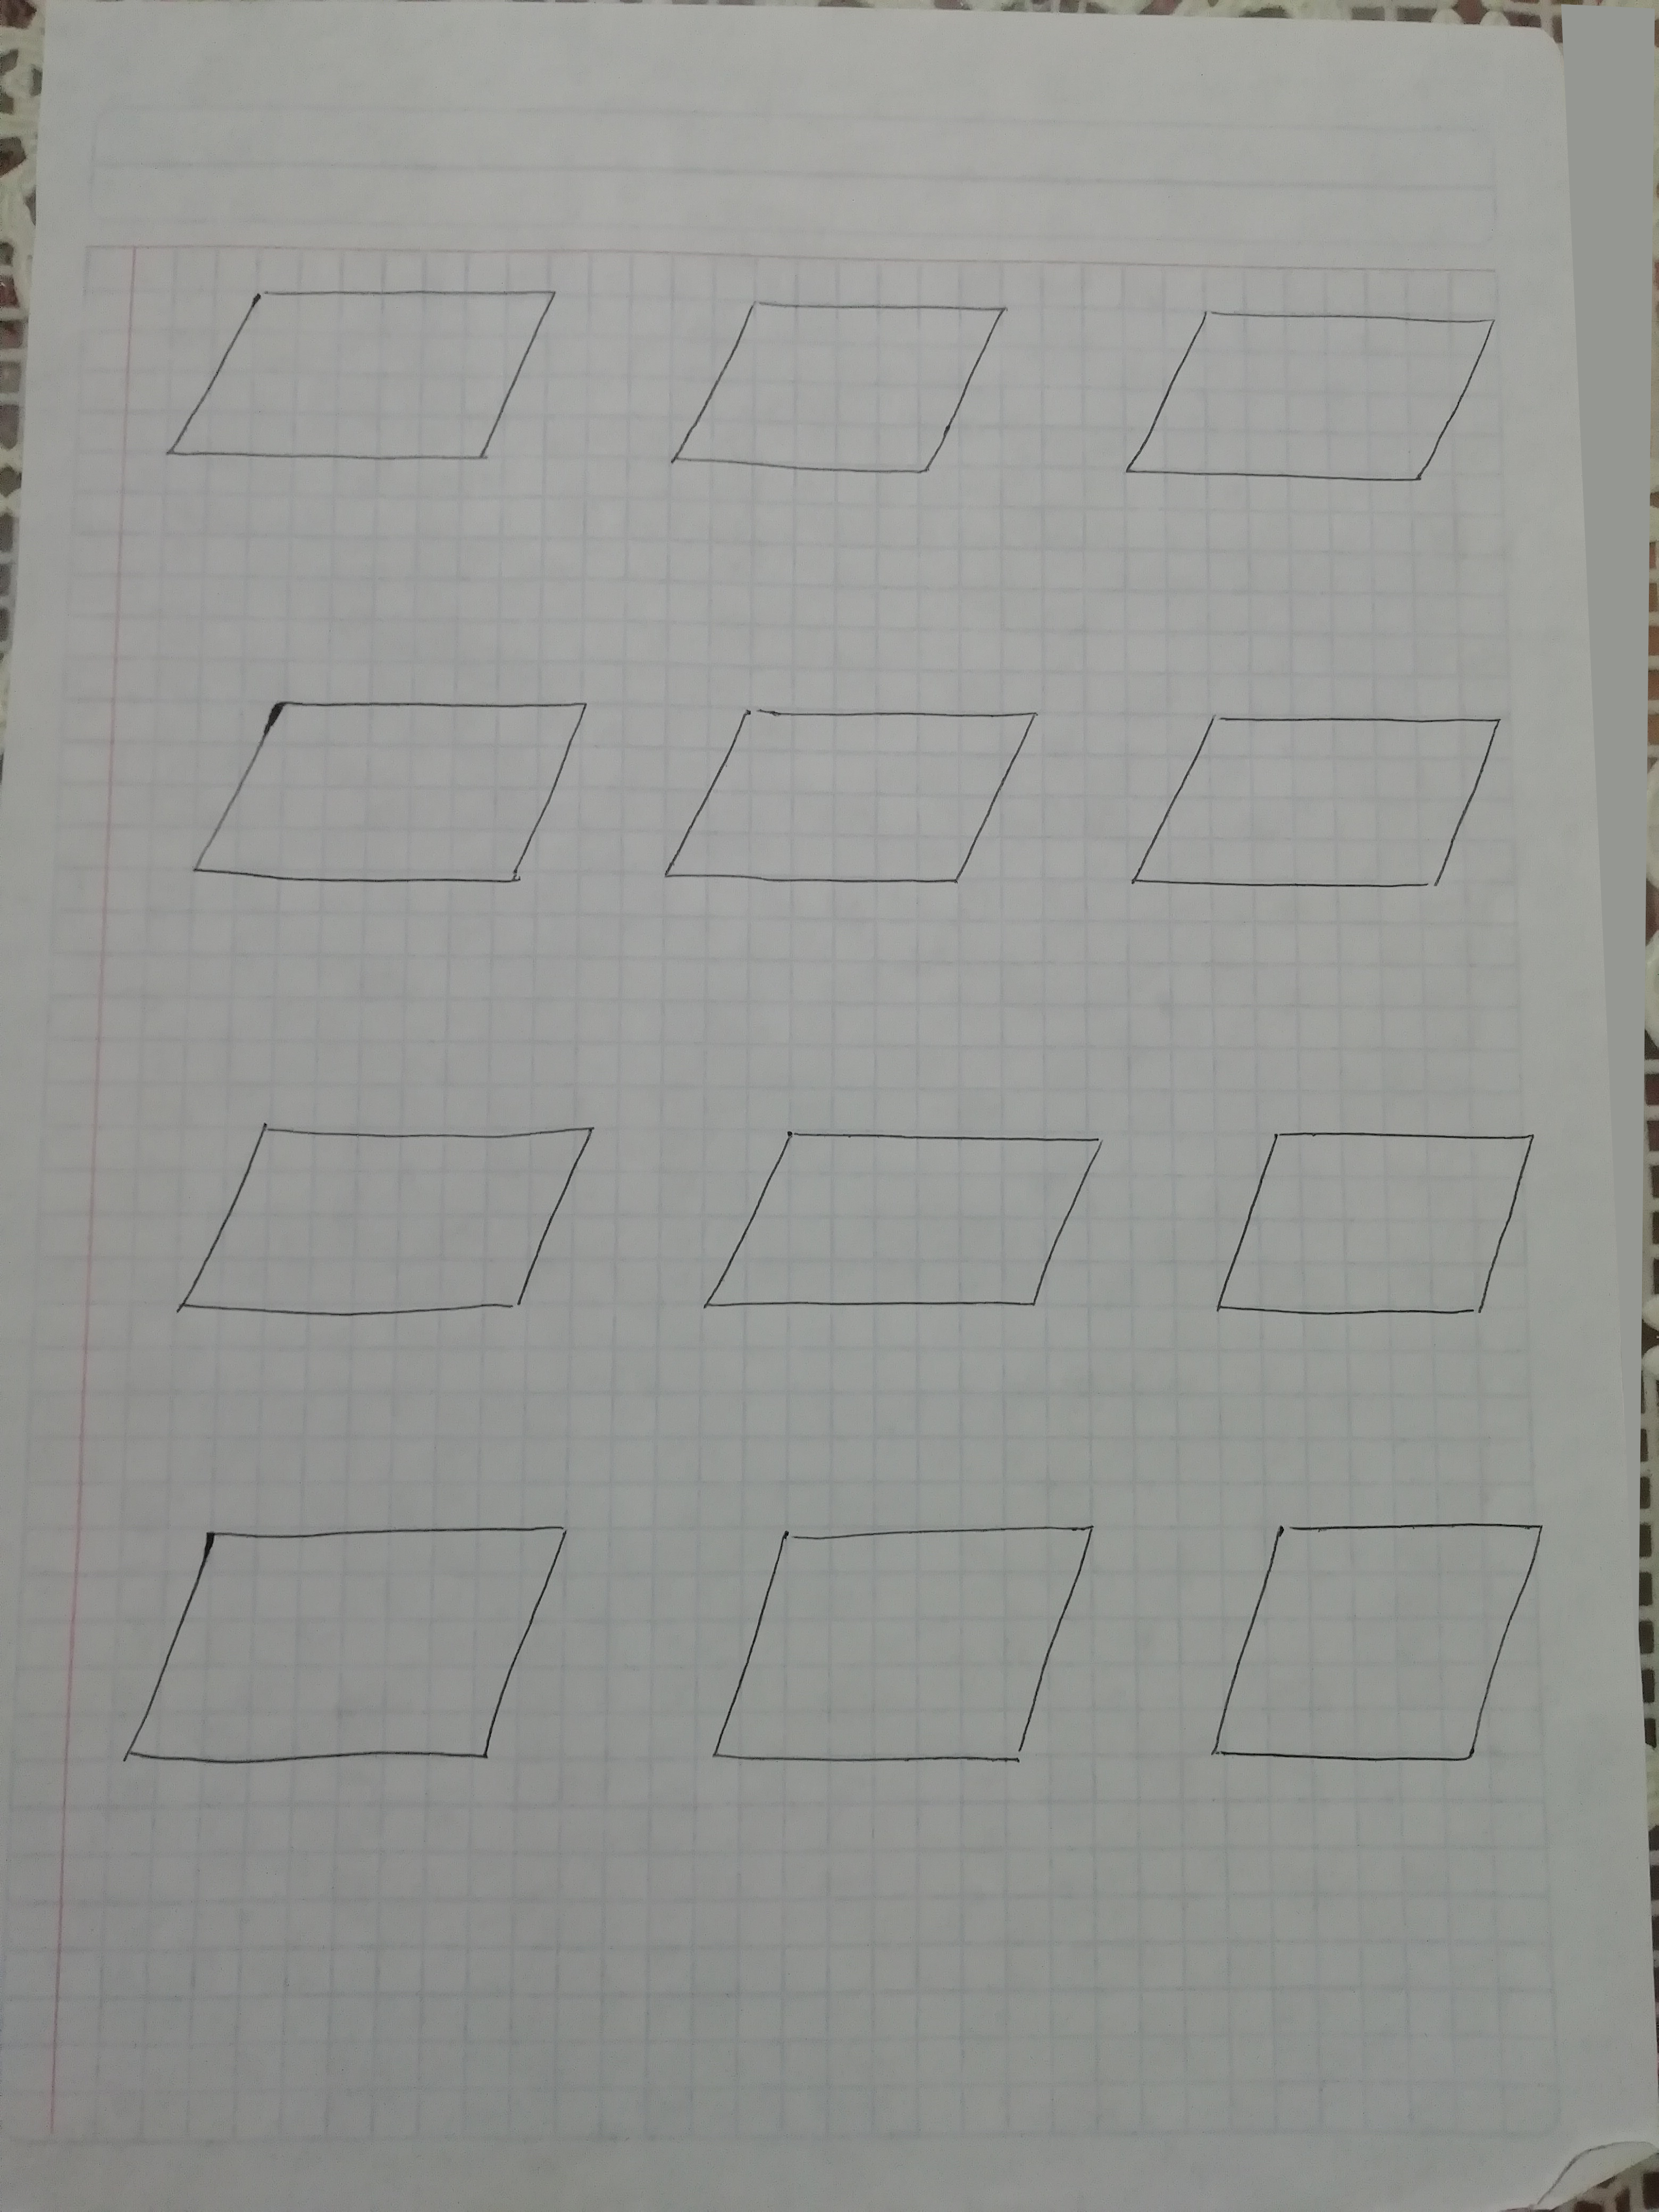scan: (98, 1503, 582, 1811), (132, 1085, 615, 1372), (697, 1503, 1136, 1811), (660, 1092, 1140, 1372), (1175, 1500, 1575, 1829), (101, 244, 580, 517), (153, 672, 608, 942), (647, 681, 1058, 958), (1108, 277, 1523, 538), (657, 256, 1037, 538), (1115, 688, 1534, 939), (1192, 1106, 1561, 1362)
